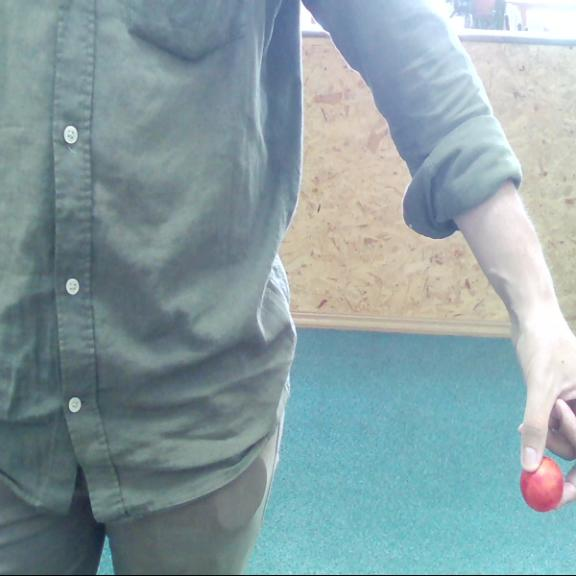ball: (516, 459, 570, 512)
